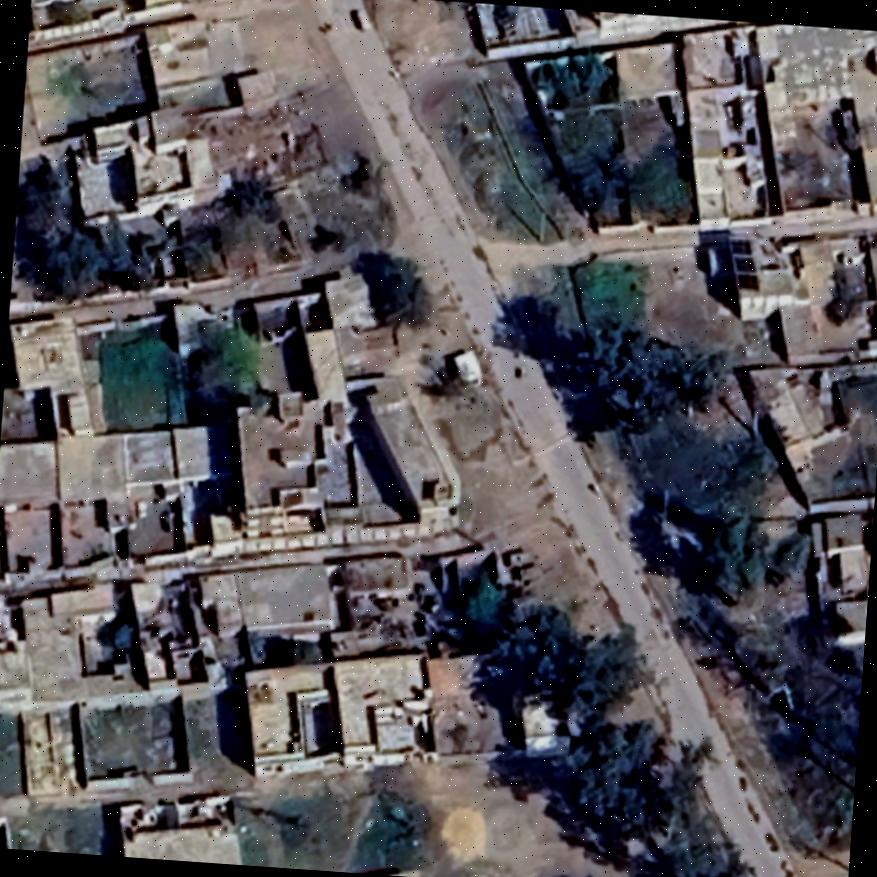Solarpanel: (722, 234, 765, 296)
